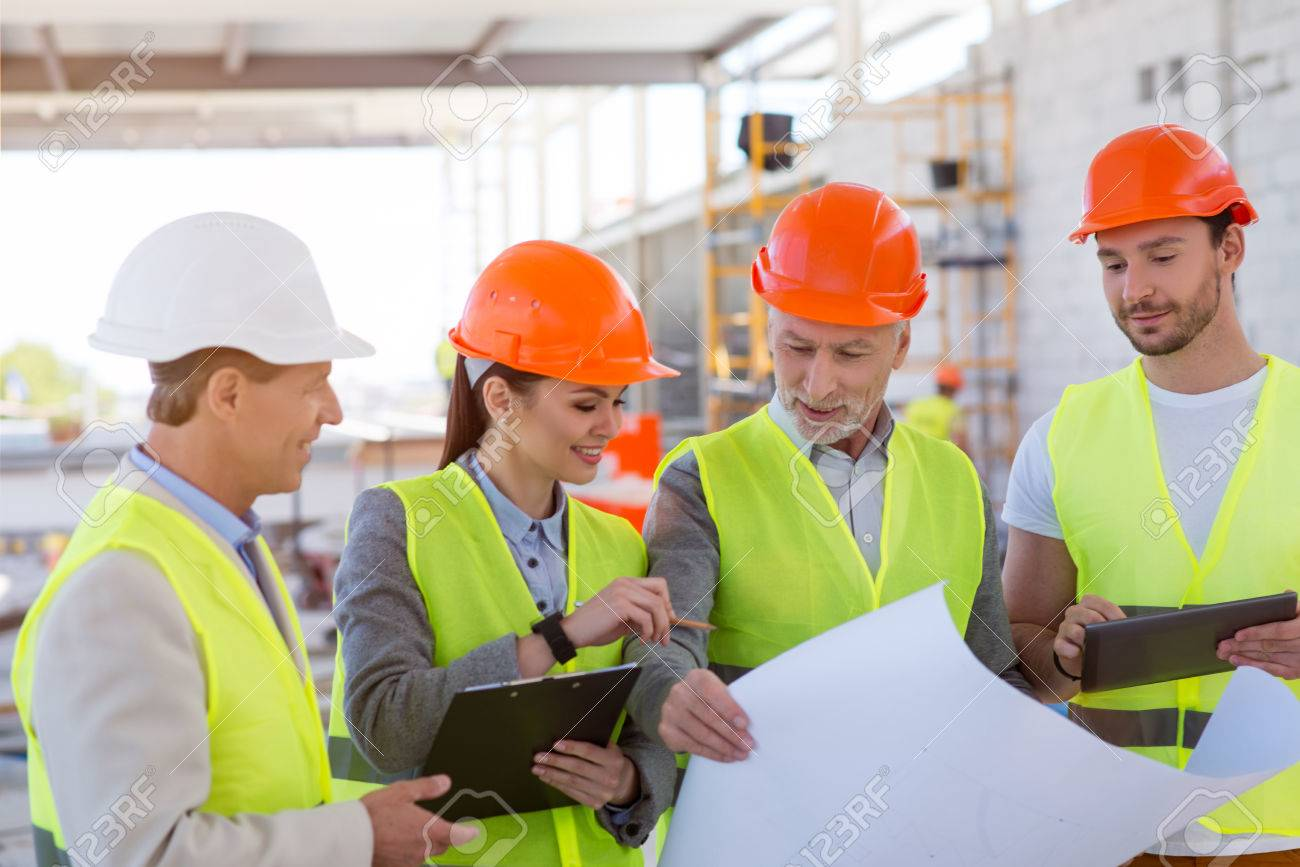Safety Helmet: (64, 169, 366, 538), (416, 228, 684, 508), (731, 162, 955, 489), (1060, 109, 1280, 378)
